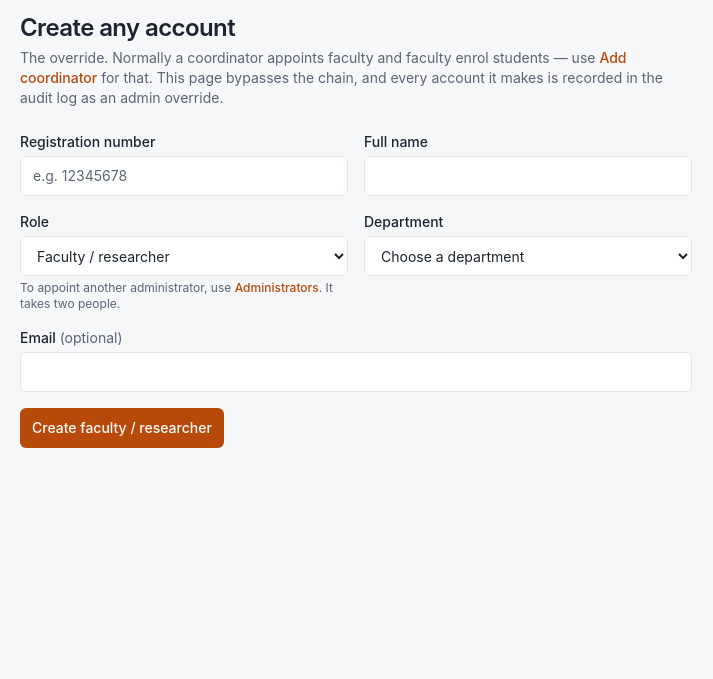
it: AdminCreateAccountPage › sends the chosen role and shows the temporary password once
Step 1. Select "Facility custodian" in the dropdown labelled "Role" → (184, 256), box [20, 236, 348, 276]
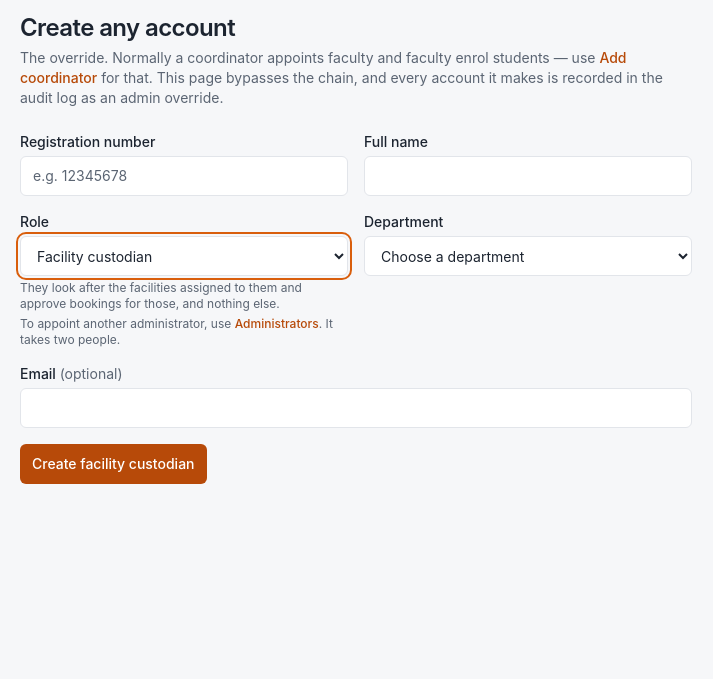
Step 2. Type "12400999" into the field labelled "Registration number" → (184, 176), box [20, 156, 348, 196]
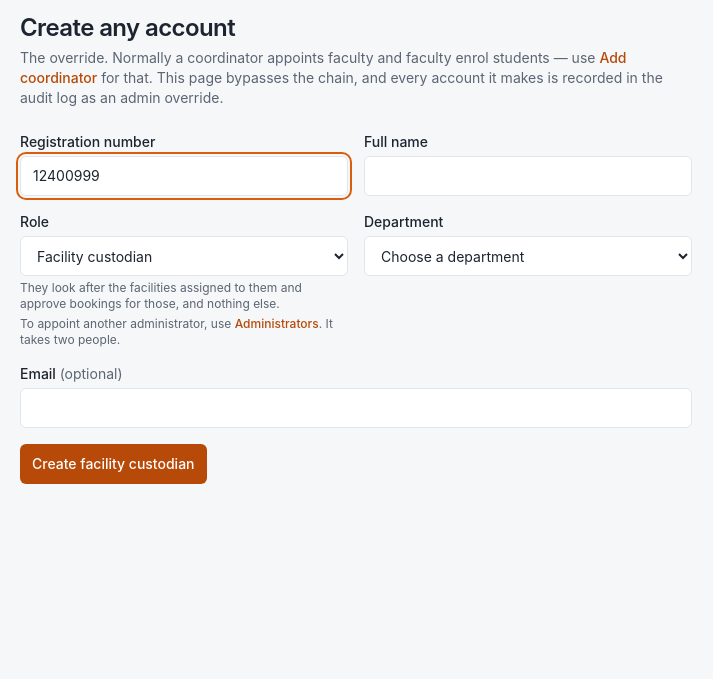
Step 3. Type "Rohit Sharma" into the field labelled "Full name" → (528, 176), box [364, 156, 692, 196]
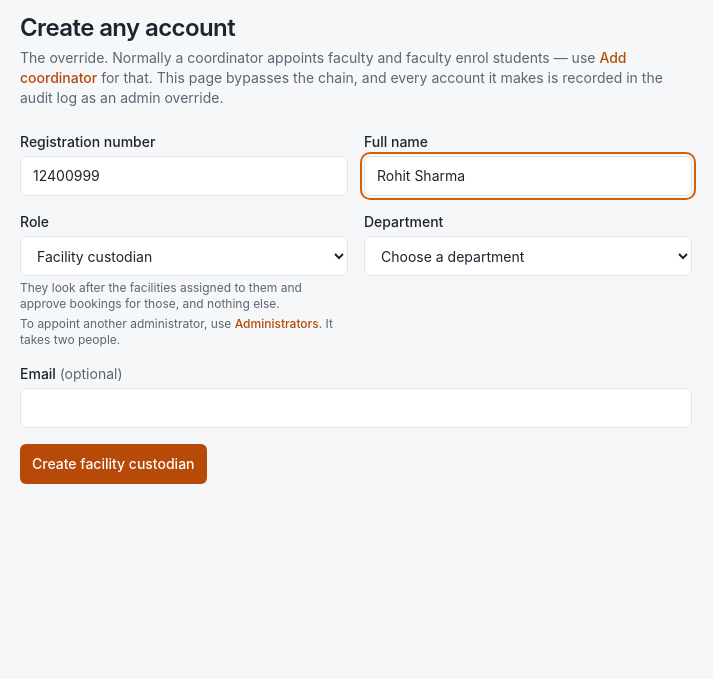
Step 4. Select "School of Computer Science" in the dropdown labelled "Department" → (528, 256), box [364, 236, 692, 276]
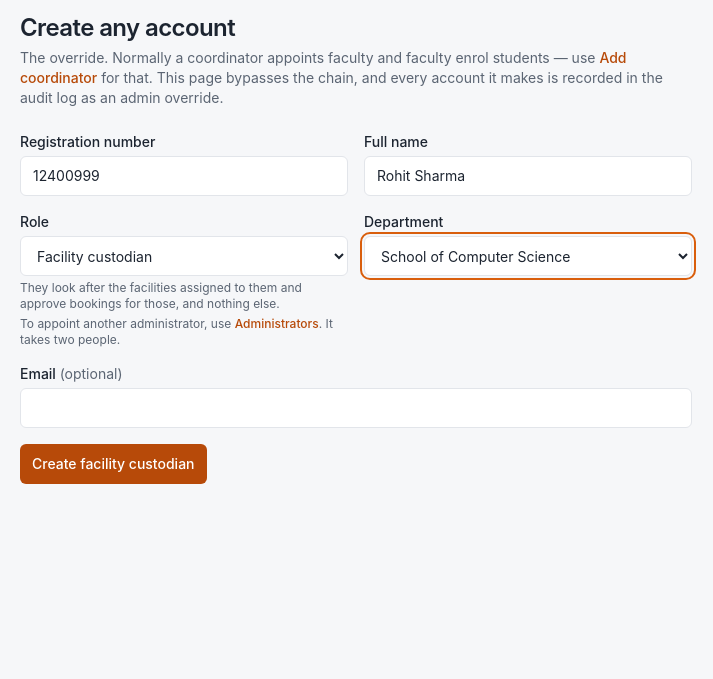
Step 5. Click the button "Create facility custodian" → (113, 464), box [20, 444, 206, 484]
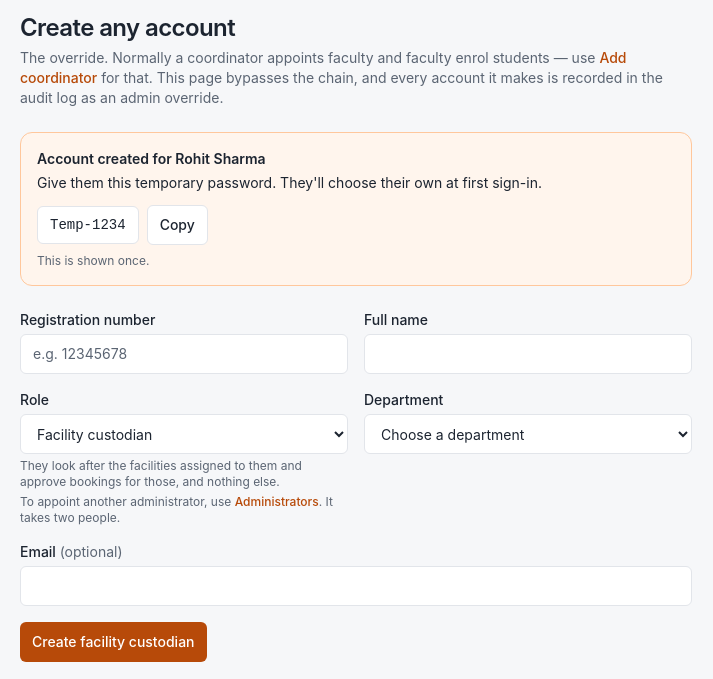
Now the text "Temp-1234" is shown, box [37, 206, 139, 244]
Now the text "This is shown once." is shown, box [37, 253, 149, 268]
